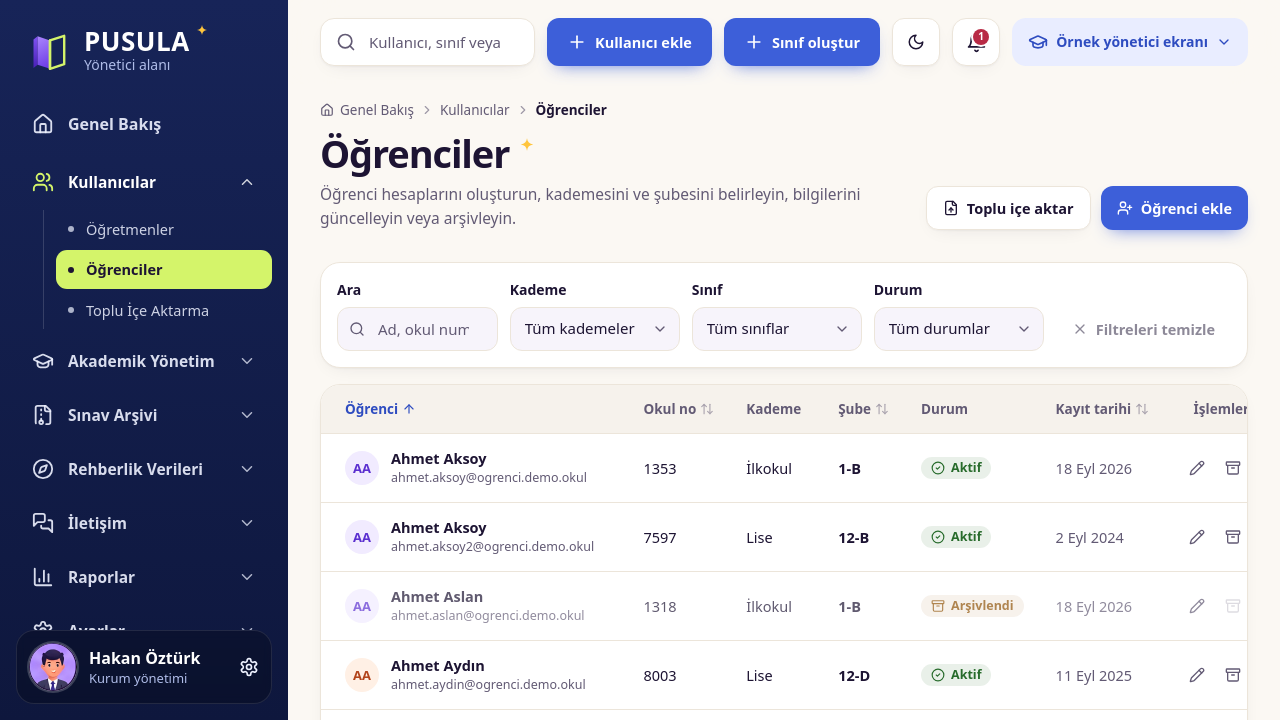
students table (admin) › prevents duplicate archive submissions while the request is pending
This screenshot has width=1280, height=720.
Click the button named "Arşivle:" in the row of "ahmet.aksoy@ogrenci.demo.okul" at {"x": 1233, "y": 468}, box [1217,452,1249,484]
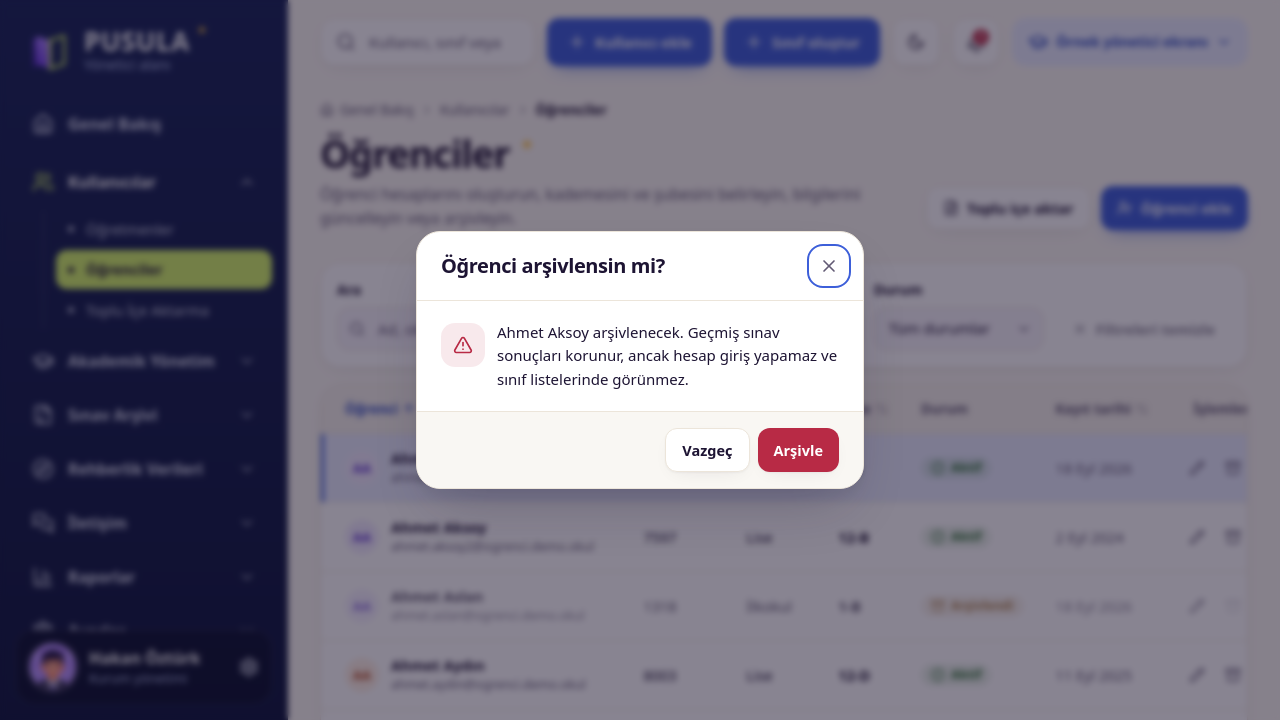
Click the button "Arşivle" at {"x": 798, "y": 450}, box [758,428,839,472]
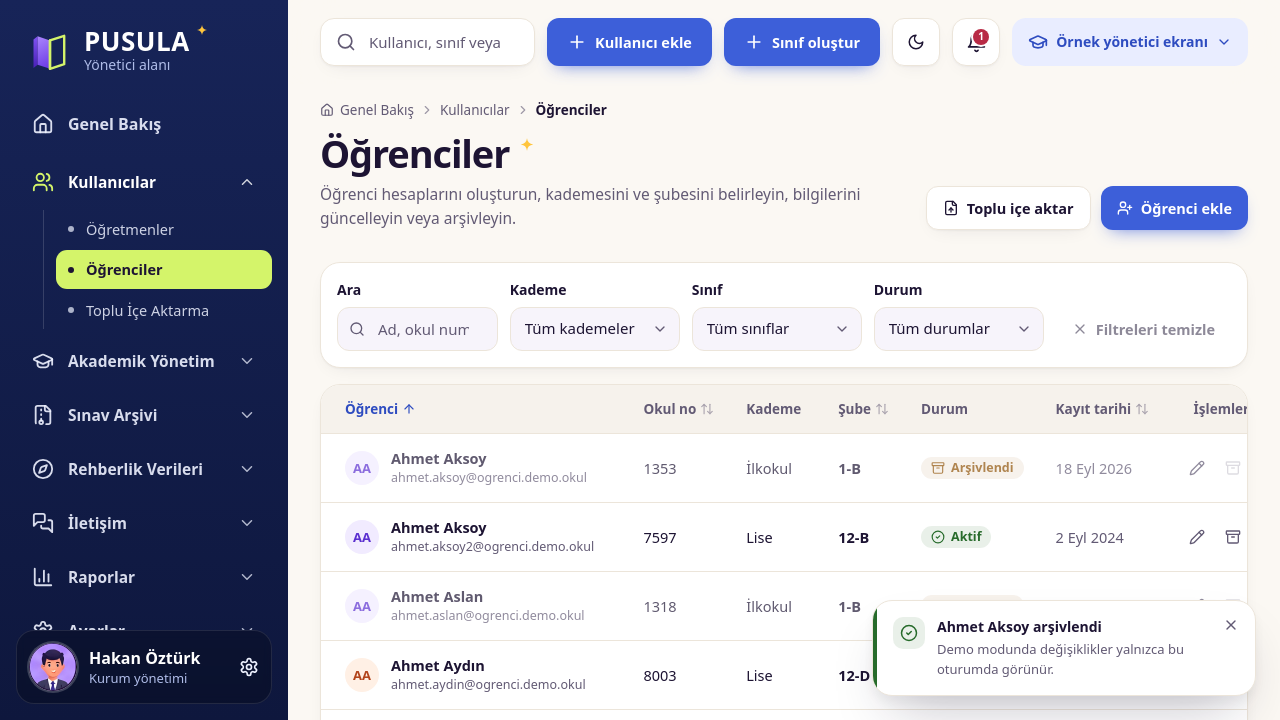
Result: the text "Ahmet Aksoy arşivlendi" is shown at [937,617,1102,636]
